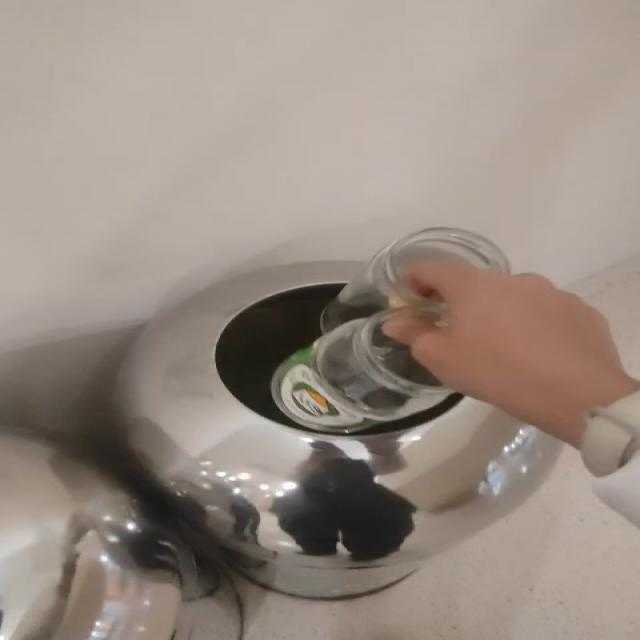glass: (271, 228, 509, 432)
